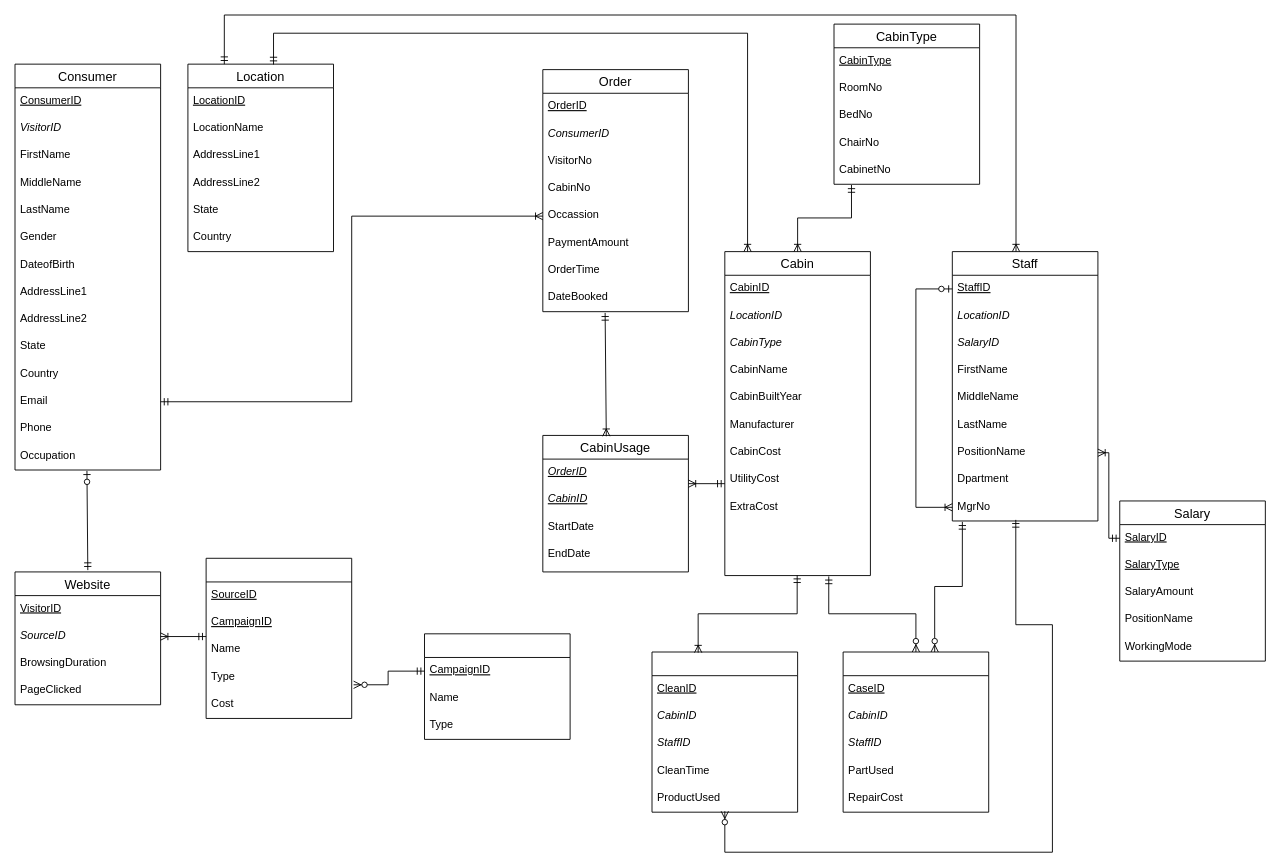
Some shapes in this 1280 by 867 pixel diagram are drawn without their labels. Here are the shapes that lost their labels. From the top down, the box of each, then its label:
(205, 557, 352, 718): VisitorSource
(424, 633, 570, 739): Promotion
(651, 651, 798, 812): Cleaning
(842, 651, 989, 812): Maintenance
